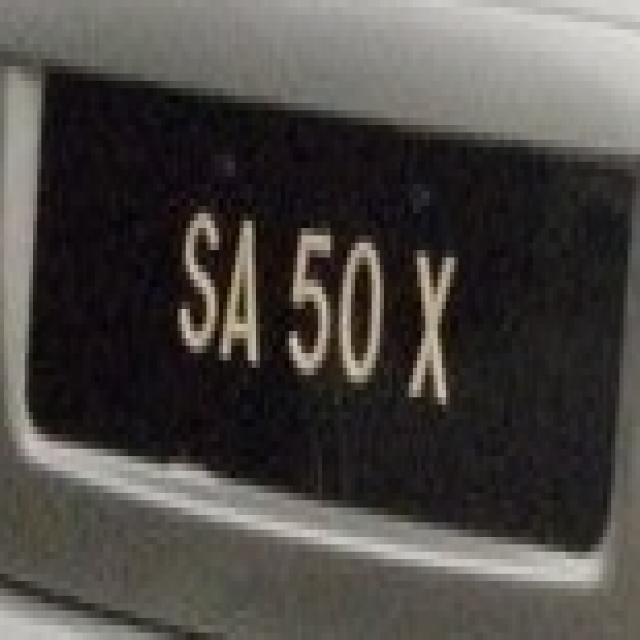licenseplate: (15, 36, 632, 592)
